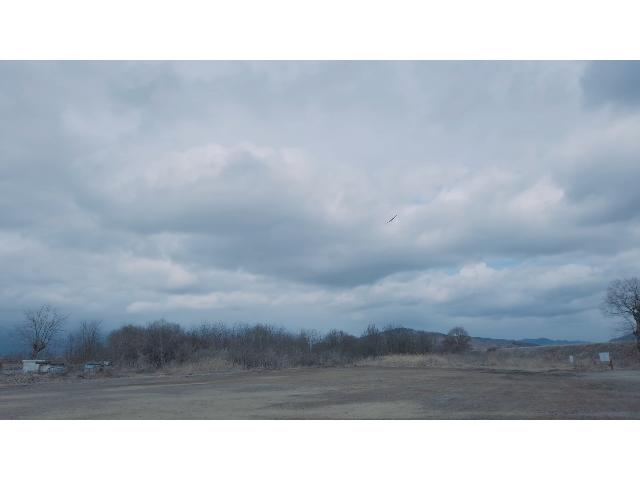Anti-Drone: (385, 213, 399, 225)
